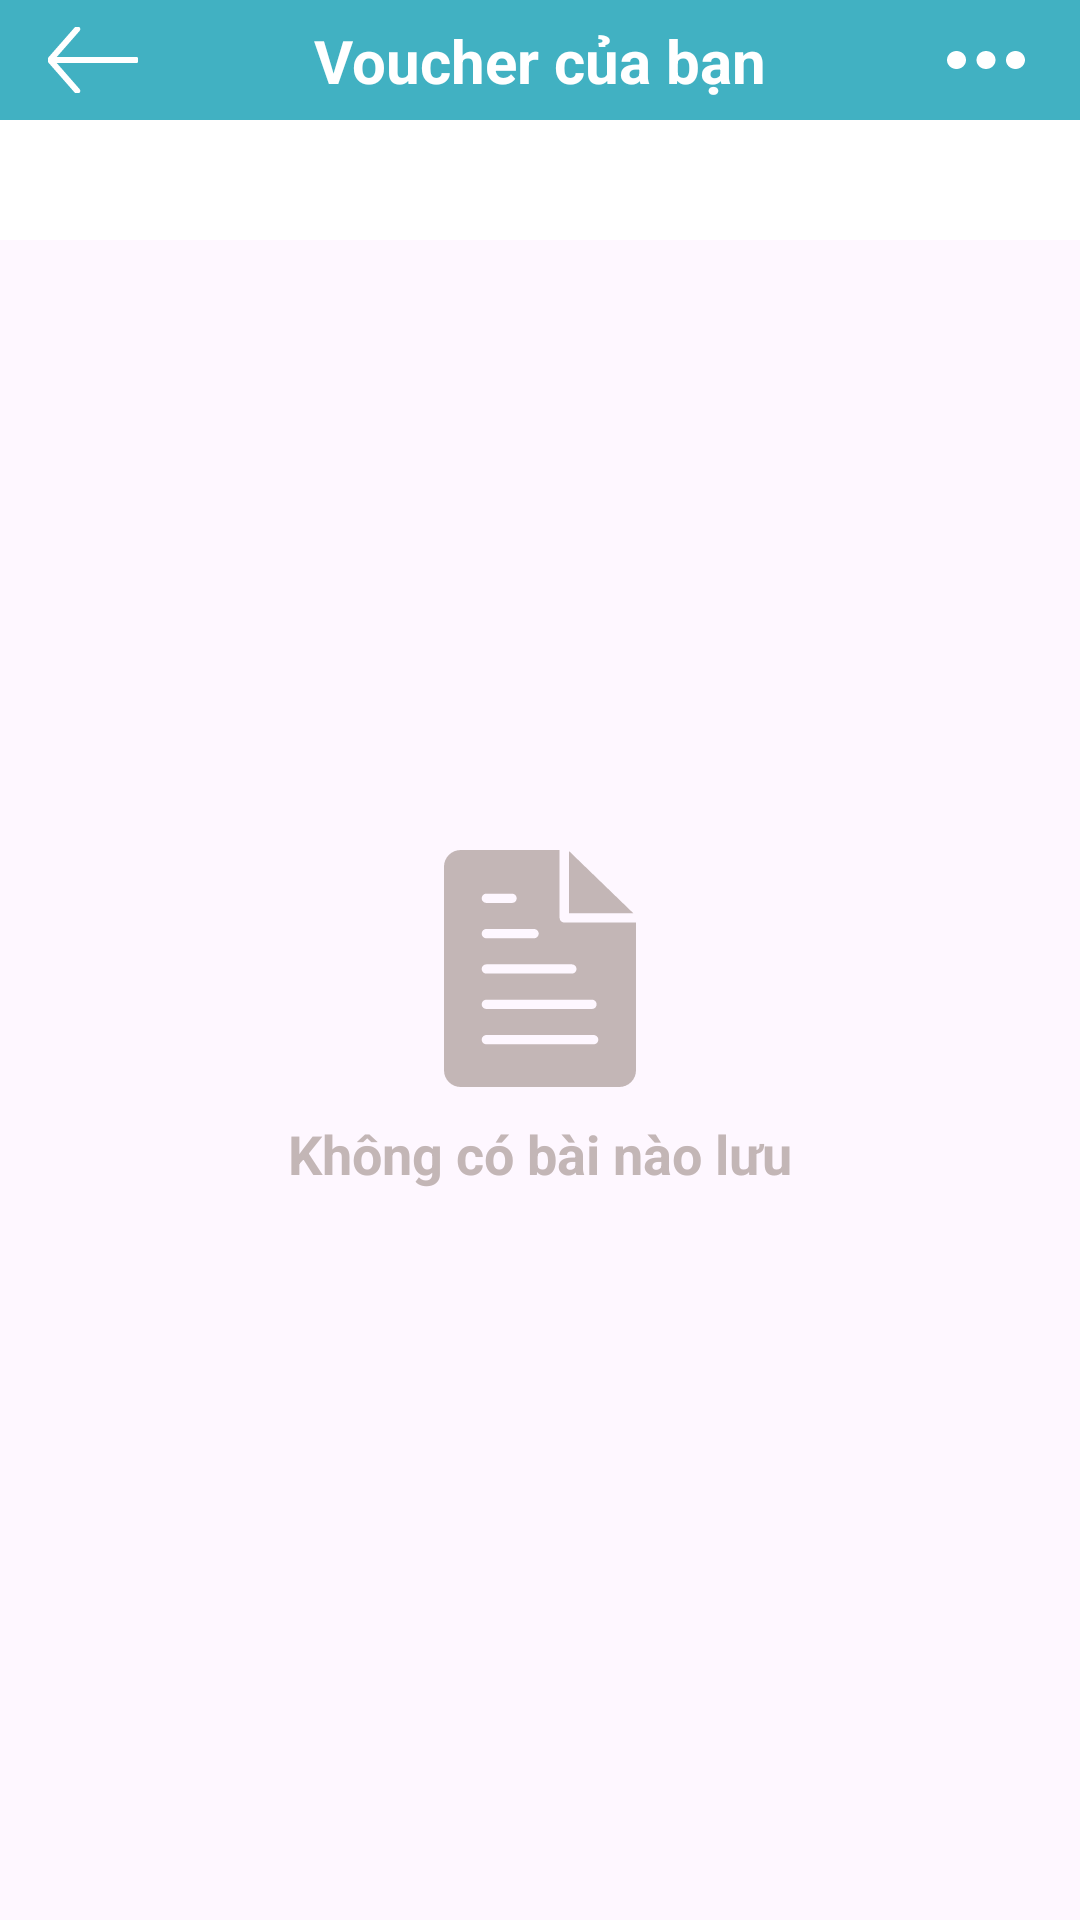

Screen size 1080 x 1920. Icon name, then its center in pixels as (x,y):
back arrow: (93,60)
